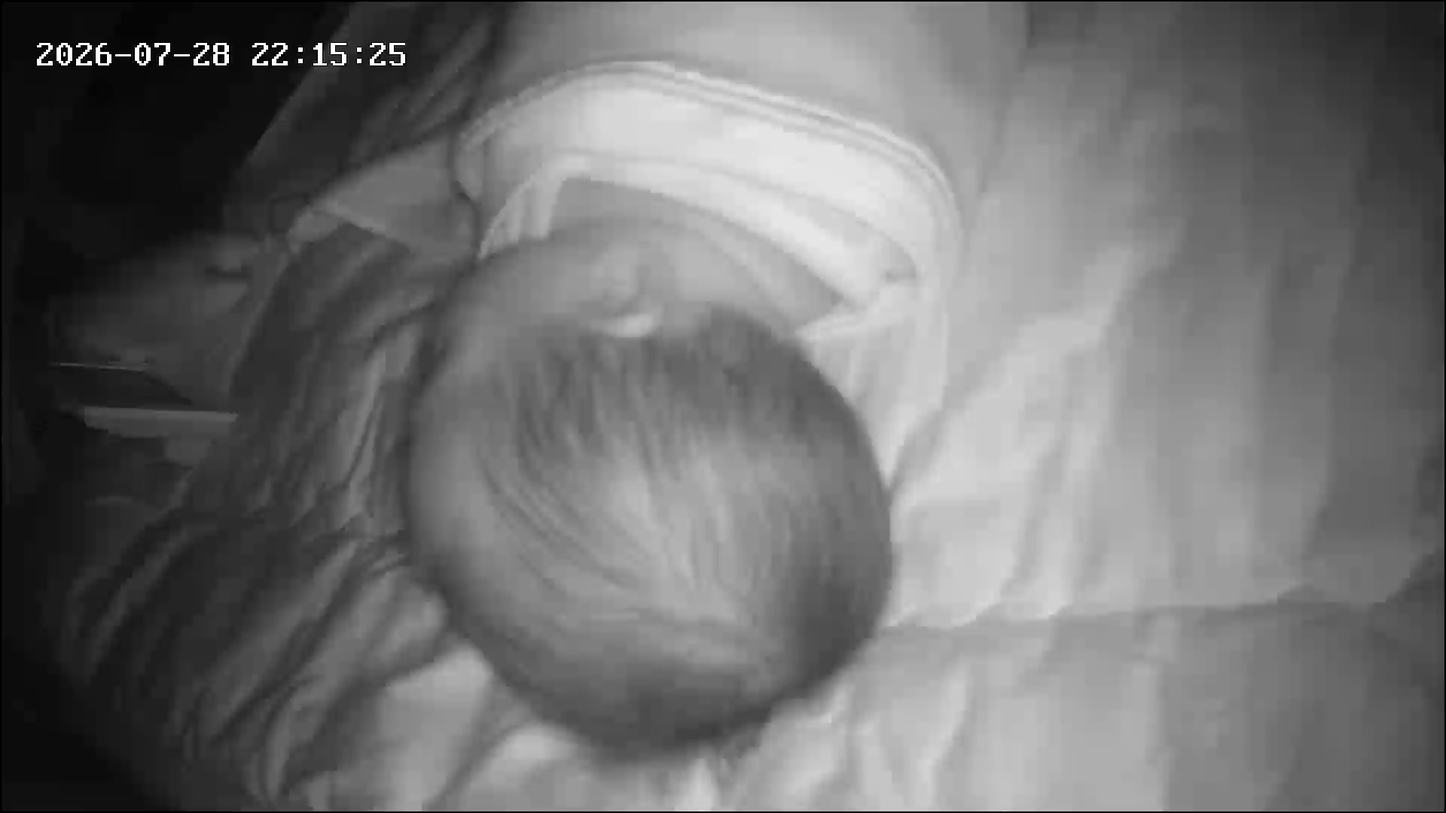baby: (361, 3, 1051, 768)
baby_face: (385, 209, 901, 749)
